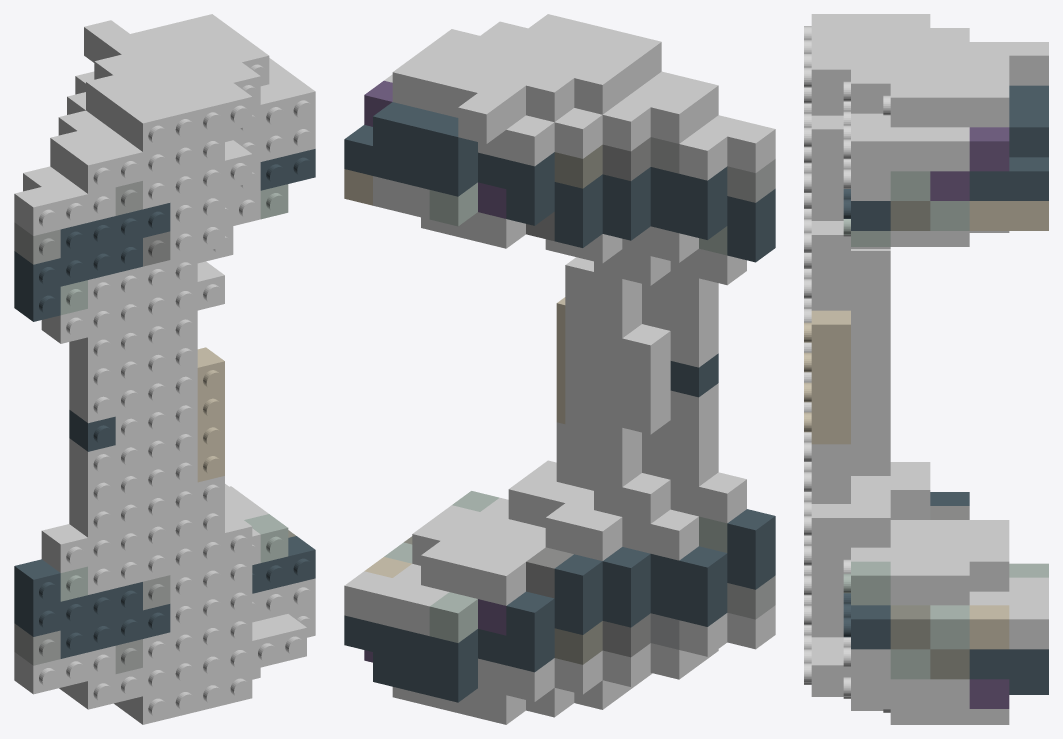
Rendered from full.glb.
3 views of the same model, side by side, from view 1: azimuth 30°, elevation 25°; view 2: azimuth 150°, elevation 25°; view 3: azimuth 270°, elevation 25° (orthographic). The views are drawn at different scales.
Parts seen in each view (by area): view 1: world; view 2: world; view 3: world.
Part boxes in pixels (x1=…): world: x1=14, y1=14, x2=315, y2=724; world: x1=344, y1=14, x2=775, y2=724; world: x1=804, y1=14, x2=1048, y2=724.
Size of the model in its own units: 88 by 168 by 59.4.
